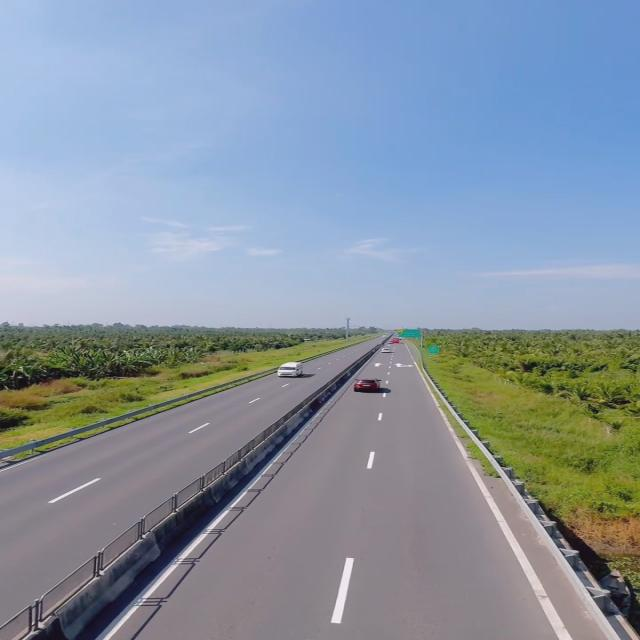car: (276, 361, 304, 377), (352, 376, 379, 390)
